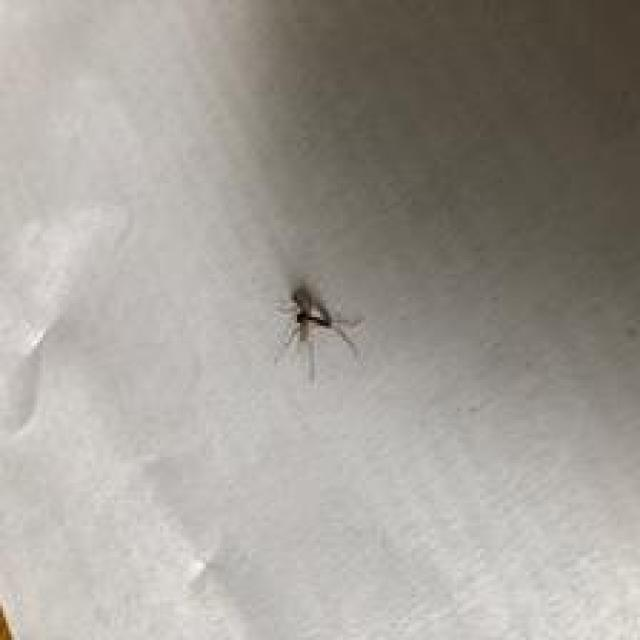Culex: (271, 283, 363, 383)
